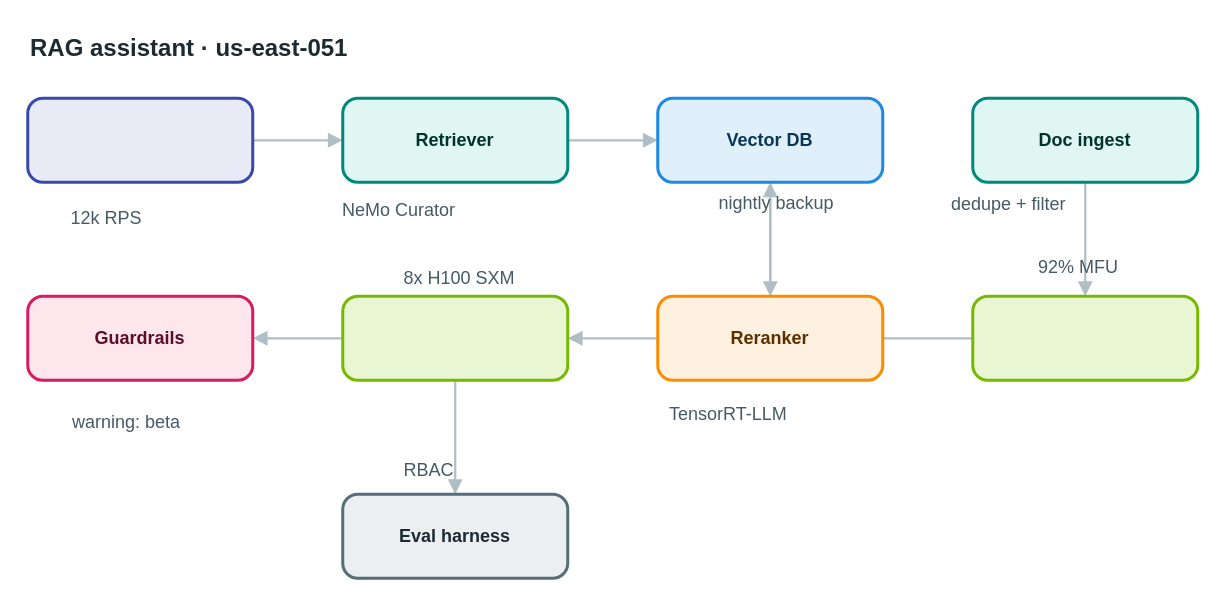
Some shapes in this 1224 by 605 pixel diagram are drawn without their labels. The centre of each missing label's shape, as x and y in pixels:
"Embedder" belongs at (x=1084, y=337).
"Nemotron" belongs at (x=454, y=337).
"User" belongs at (x=140, y=139).
